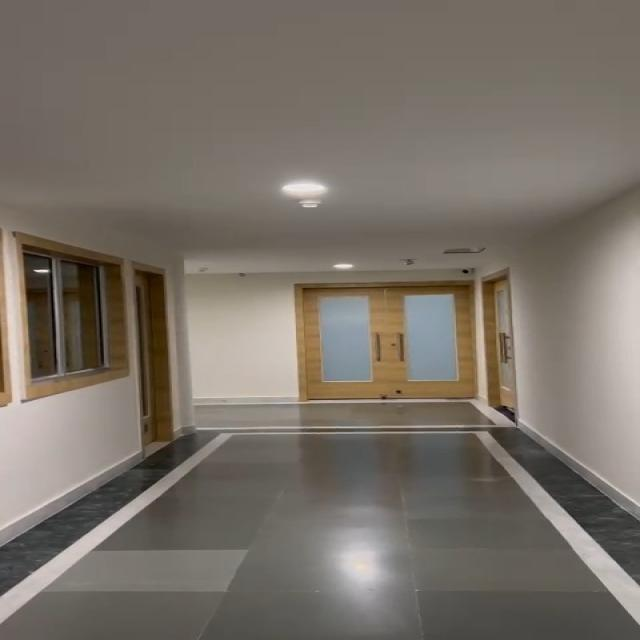door: (294, 266, 513, 414), (120, 252, 187, 436)
floor: (190, 414, 511, 640)
wall: (521, 230, 639, 440), (182, 270, 296, 408), (8, 412, 123, 490)
